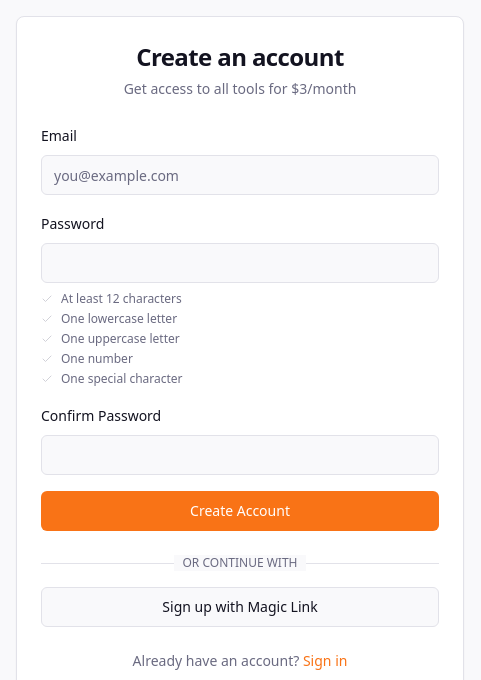
Test: RegisterPage › shows error for mismatched passwords
The image size is (481, 680).
In the field labelled "Email": (240, 175) [41,155,439,195], type "new@example.com"
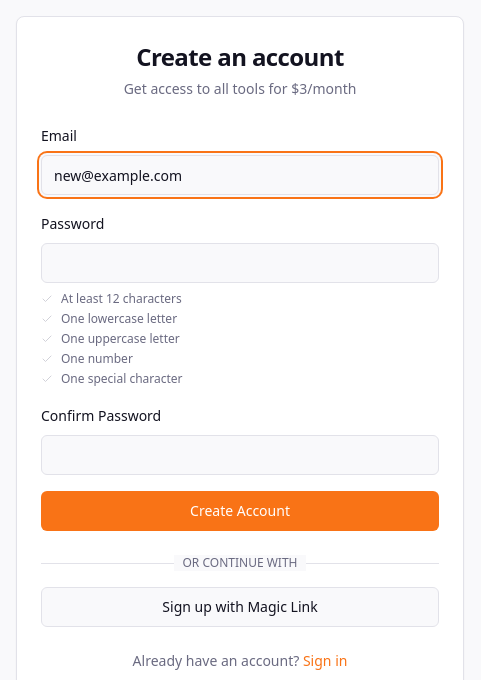
In the password field labelled "Password": (240, 263) [41,243,439,283], type "ValidPass123!"
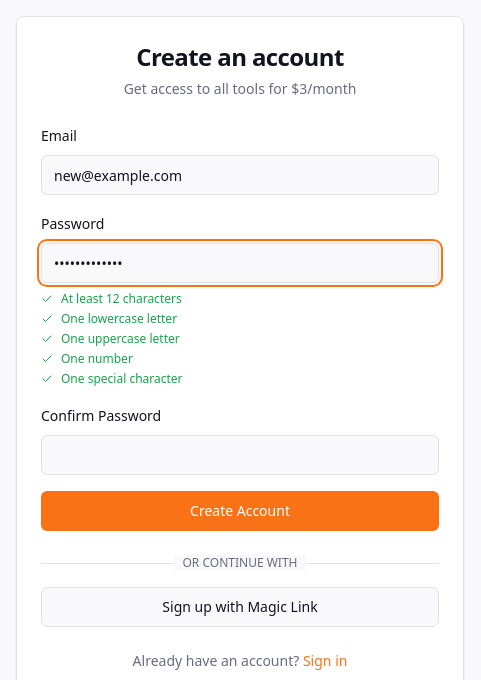
In the password field labelled "Confirm Password": (240, 455) [41,435,439,475], type "DifferentPass123!"
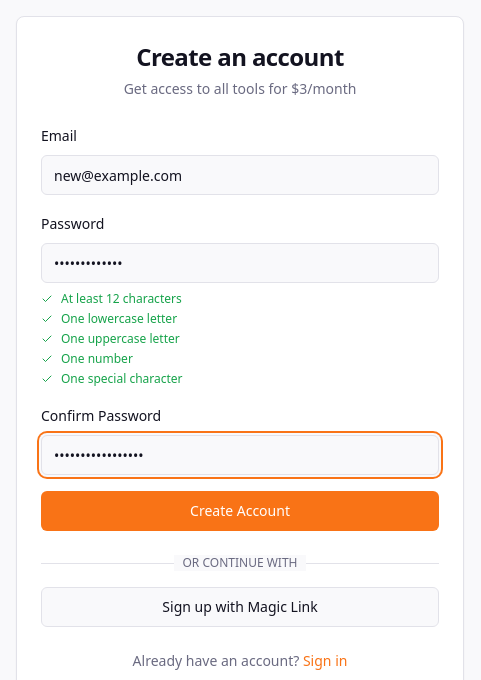
Click the button "Create Account": (240, 511) [41,491,439,531]
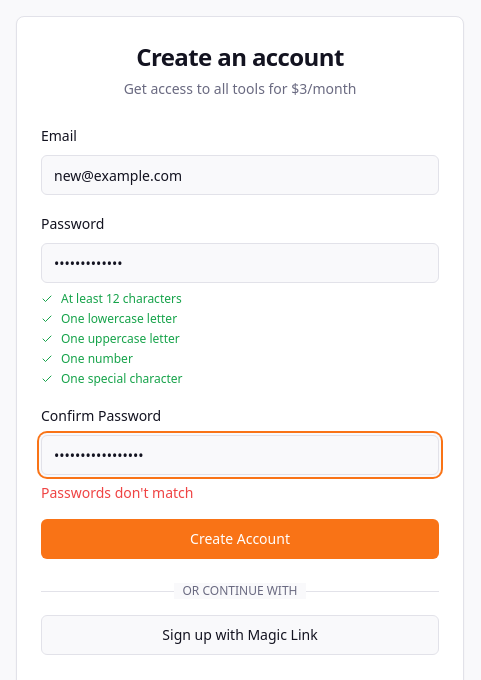
Expected: the text "Passwords don't match" is shown, [41,483,194,502]
